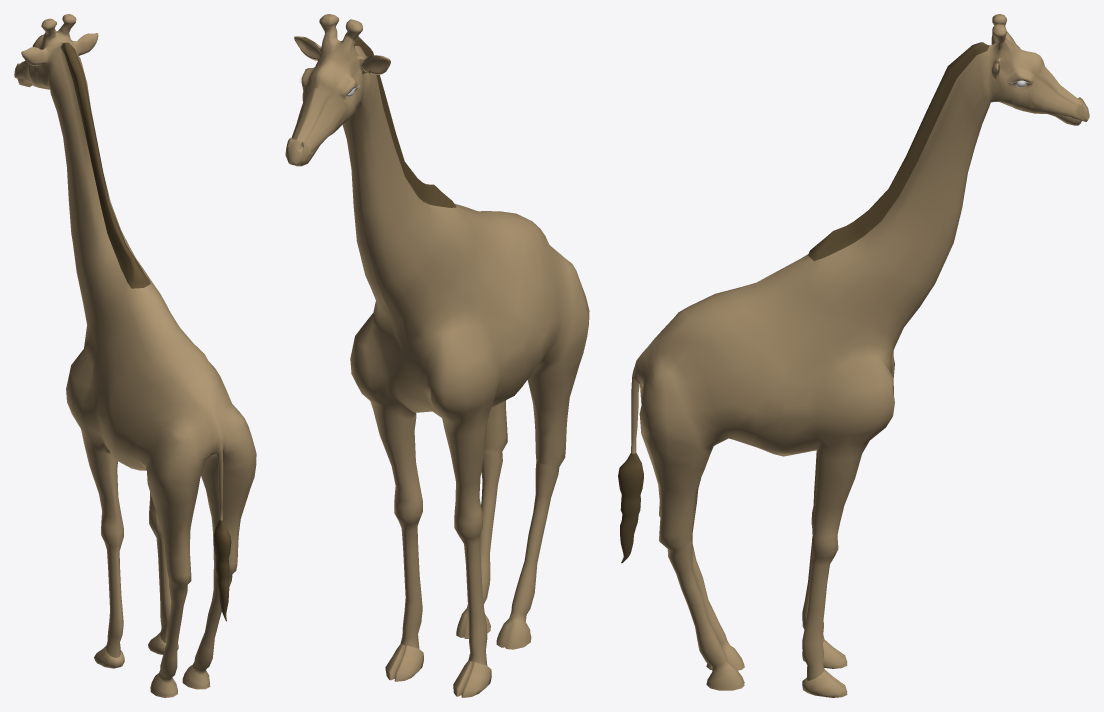
The model's file is Giraffe.fbx.
3 renders of one model, left to right at view 1: azimuth 30°, elevation 25°; view 2: azimuth 150°, elevation 25°; view 3: azimuth 270°, elevation 25°, orthographic. The views are drawn at different scales.
Parts seen in each view (by area): view 1: Giraffe2; view 2: Giraffe2; view 3: Giraffe2.
Part boxes in pixels (x1,y1,x2,y2): Giraffe2: [14, 14, 256, 697]; Giraffe2: [285, 14, 589, 697]; Giraffe2: [618, 14, 1089, 697].
Bounding box in the file's own units: 4.36 × 23.28 × 15.11.
